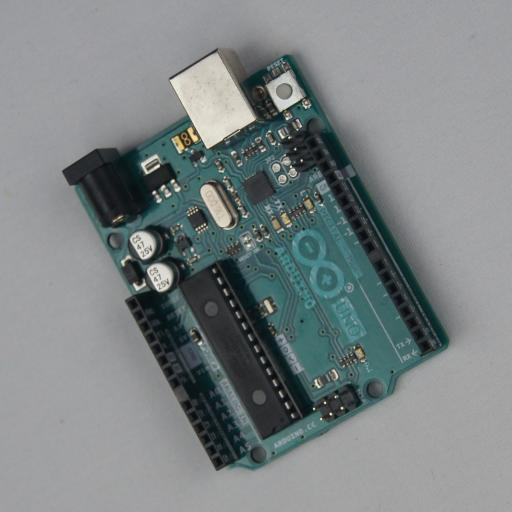Arduino Uno -Green-: (62, 48, 451, 471)
